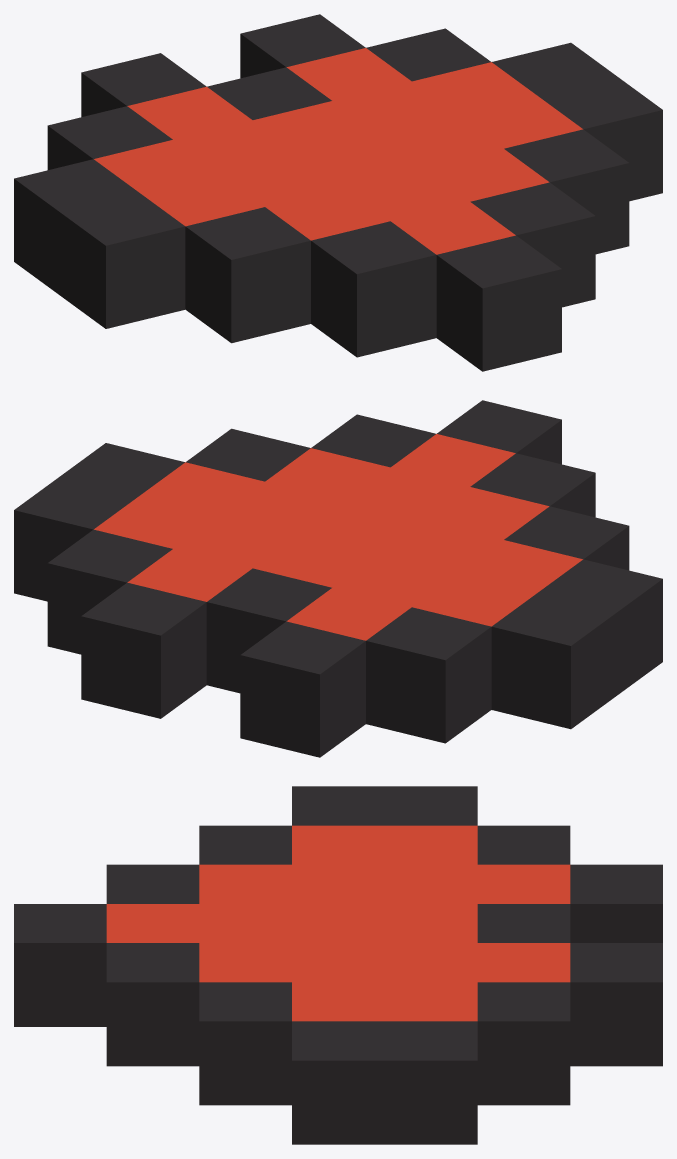
The model's file is Mini_Life.obj.
3 views of the same model, one above another, from view 1: azimuth 30°, elevation 25°; view 2: azimuth 150°, elevation 25°; view 3: azimuth 270°, elevation 25° (orthographic).
Bounding box in the file's own units: 0.7 × 0.1 × 0.7.
1 material, 1 textured.
